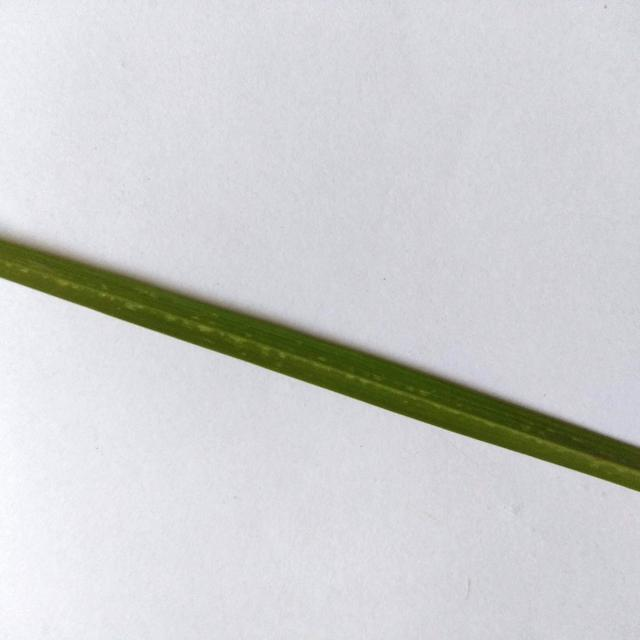Rice_Healthy: (0, 237, 640, 491)
